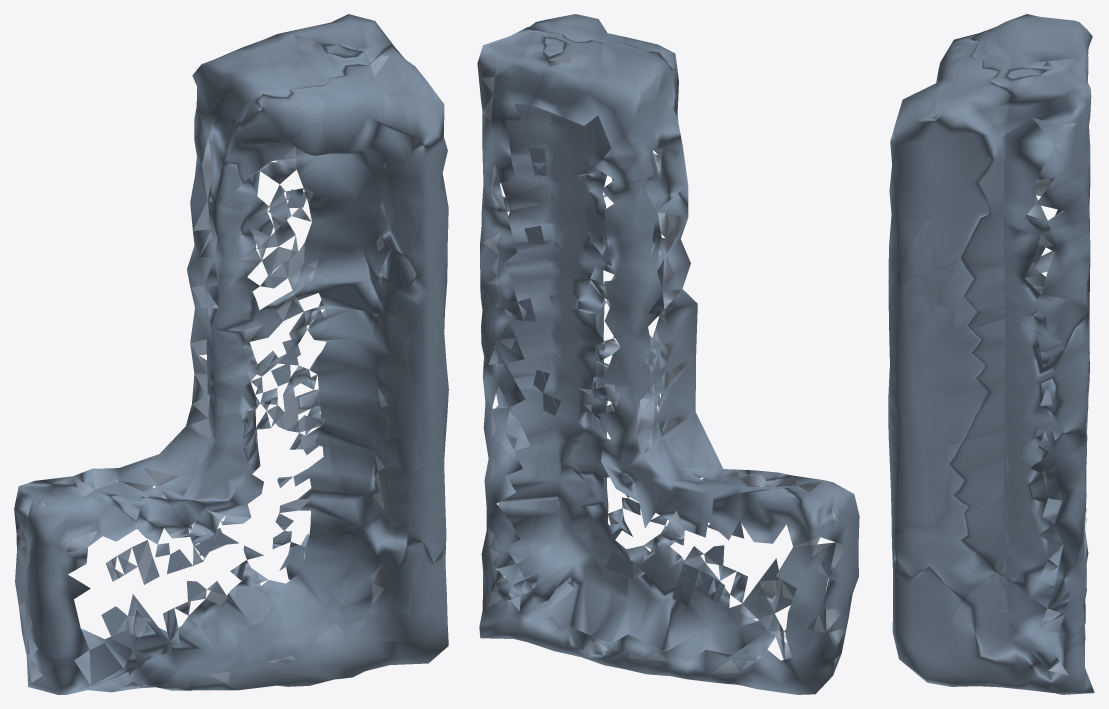
File: sofa_0115_recon.obj
3 renders of one model, left to right at view 1: azimuth 30°, elevation 25°; view 2: azimuth 150°, elevation 25°; view 3: azimuth 270°, elevation 25°, orthographic. The views are drawn at different scales.
Size of the model in its own units: 0.9959 by 1.6 by 0.4888.
